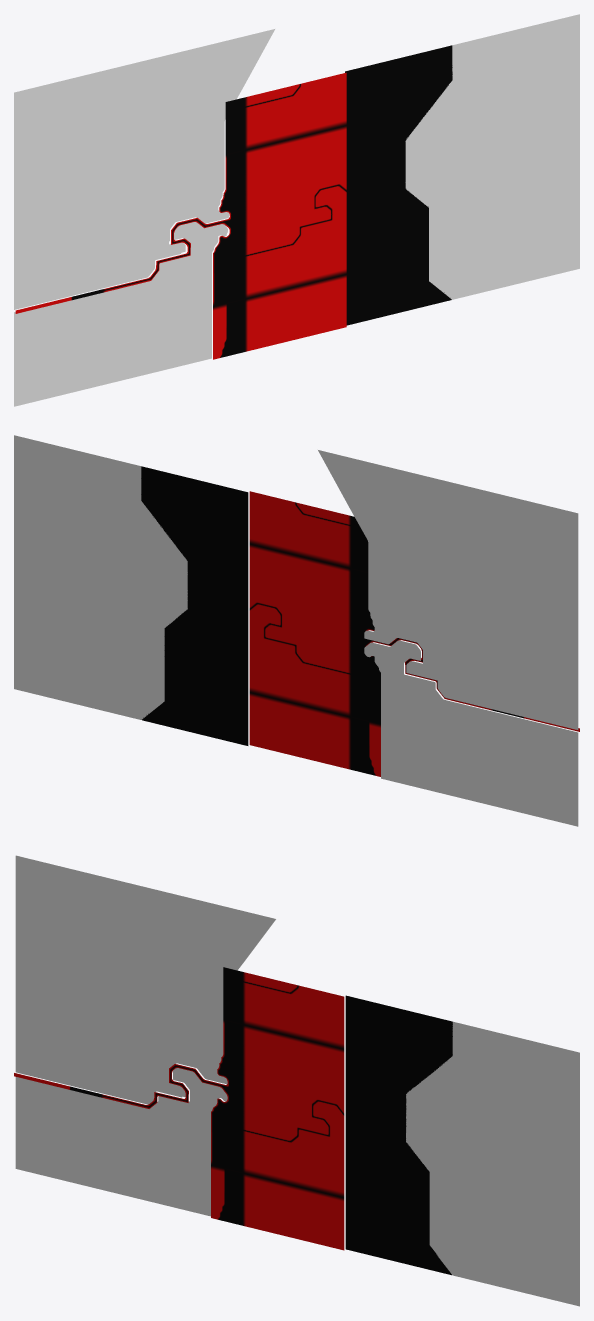
The model's file is Manila.glb.
3 renders of one model, top to bottom at view 1: azimuth 30°, elevation 25°; view 2: azimuth 150°, elevation 25°; view 3: azimuth 330°, elevation 25°, orthographic.
Parts seen in each view (by area): view 1: Manila_Land, Manila_land_extended, Manila_Water, Manila_water_extended, Manila_Grass; view 2: Manila_Land, Manila_land_extended, Manila_Water, Manila_water_extended, Manila_Grass; view 3: Manila_Land, Manila_land_extended, Manila_Water, Manila_water_extended, Manila_Grass.
Part boxes in pixels (left/top/right/bottom): Manila_Land: left=14, top=29, right=274, bottom=406; Manila_land_extended: left=405, top=14, right=579, bottom=299; Manila_Water: left=15, top=72, right=346, bottom=359; Manila_water_extended: left=345, top=45, right=452, bottom=325; Manila_Grass: left=101, top=73, right=245, bottom=349; Manila_Land: left=318, top=450, right=578, bottom=826; Manila_land_extended: left=14, top=435, right=187, bottom=719; Manila_Water: left=249, top=491, right=579, bottom=776; Manila_water_extended: left=141, top=466, right=248, bottom=745; Manila_Grass: left=347, top=494, right=491, bottom=769; Manila_Land: left=15, top=855, right=275, bottom=1216; Manila_land_extended: left=406, top=1021, right=579, bottom=1306; Manila_Water: left=14, top=967, right=344, bottom=1250; Manila_water_extended: left=345, top=995, right=452, bottom=1275; Manila_Grass: left=102, top=915, right=246, bottom=1184.
Size of the model in its own units: 537 by 285 by 2.53.
5 materials, 2 textured.
